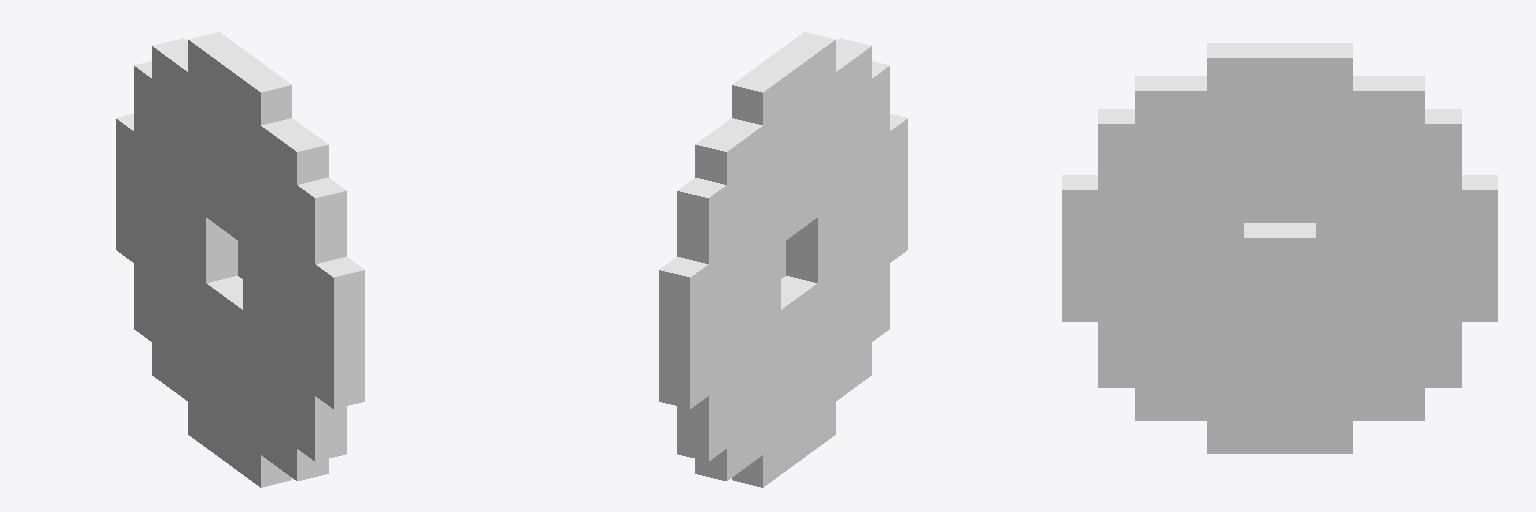
Rendered from char-11-shield_med_1_sh.obj.
3 renders of one model, left to right at view 1: azimuth 30°, elevation 25°; view 2: azimuth 150°, elevation 25°; view 3: azimuth 270°, elevation 25°, orthographic.
Parts seen in each view (by area): view 1: shield_med_1_sh; view 2: shield_med_1_sh; view 3: shield_med_1_sh.
Part boxes in pixels (x1,y1,x2,y2): shield_med_1_sh: (116,32,364,487); shield_med_1_sh: (659,32,907,487); shield_med_1_sh: (1062,43,1497,453).
Size of the model in its own units: 0.2 by 1.2 by 1.2.